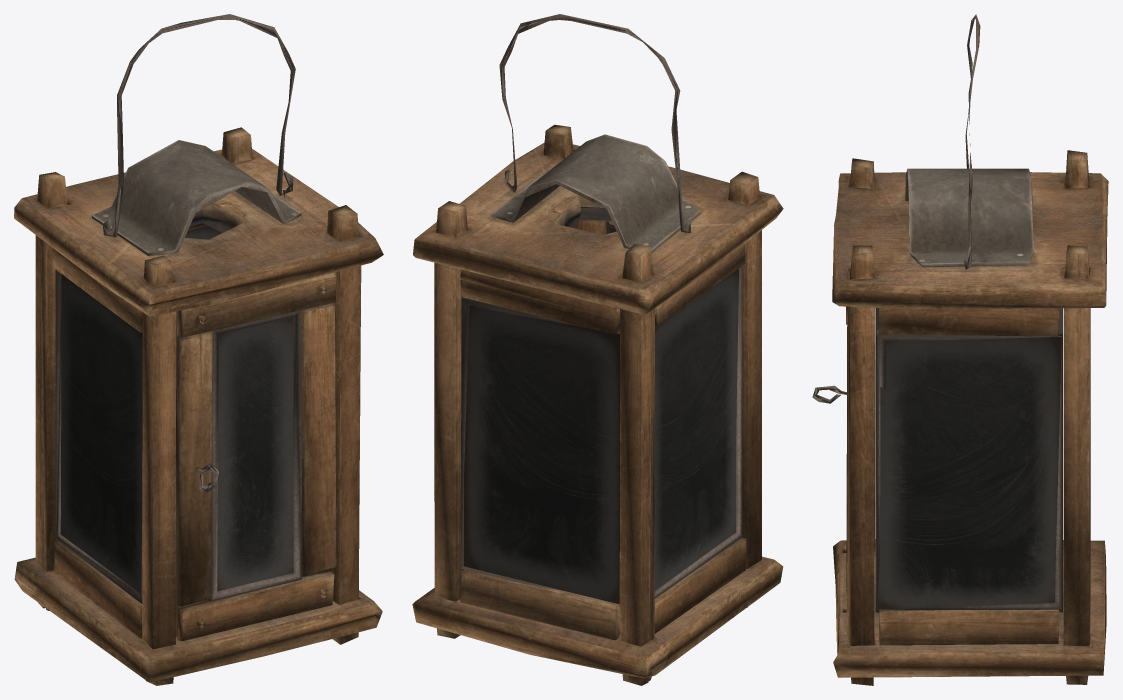
The model's file is lantern.glb.
3 renders of one model, left to right at view 1: azimuth 30°, elevation 25°; view 2: azimuth 150°, elevation 25°; view 3: azimuth 270°, elevation 25°, orthographic.
Parts seen in each view (by area): view 1: wooden_lantern_01, wooden_lantern_01_door, wooden_lantern_01_handle; view 2: wooden_lantern_01, wooden_lantern_01_handle; view 3: wooden_lantern_01, wooden_lantern_01_handle, wooden_lantern_01_door.
Boxes of the visible parts, x1,y1,x2,y2 form: wooden_lantern_01: [14, 127, 383, 685]; wooden_lantern_01_door: [176, 272, 336, 641]; wooden_lantern_01_handle: [102, 14, 295, 237]; wooden_lantern_01: [412, 124, 783, 685]; wooden_lantern_01_handle: [499, 14, 691, 232]; wooden_lantern_01: [832, 150, 1108, 685]; wooden_lantern_01_handle: [965, 14, 980, 268]; wooden_lantern_01_door: [812, 306, 847, 612].
Bounding box in the file's own units: 0.2201 × 0.5267 × 0.2331.
Materials: 2 (2 with a texture image).
